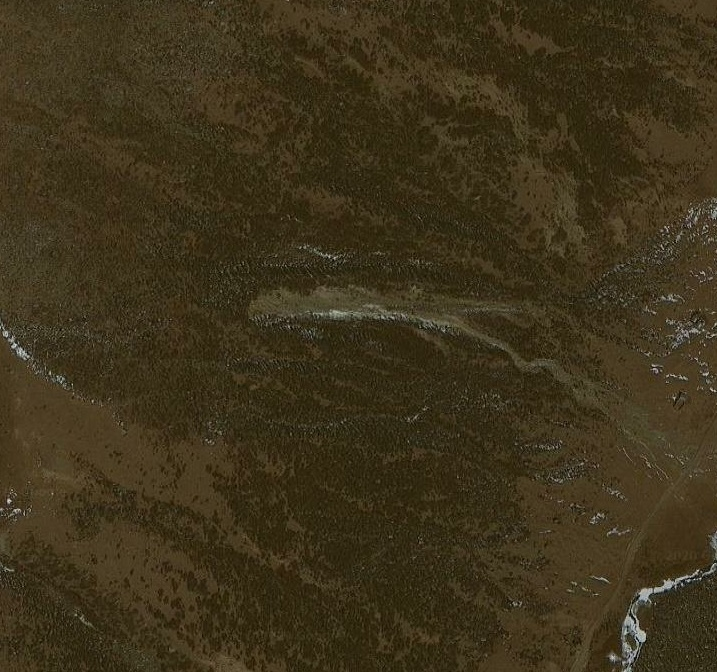slope: (243, 277, 563, 378)
